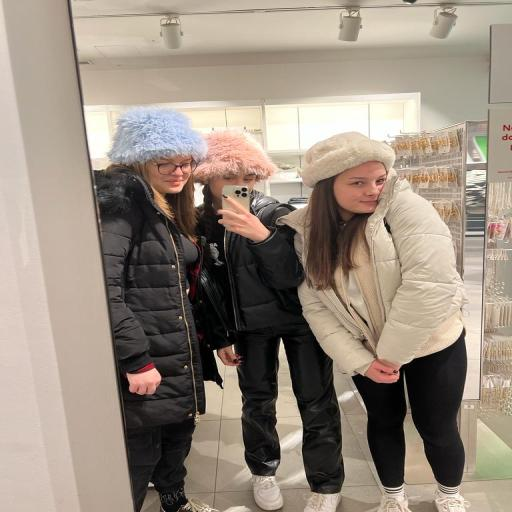marija: (328, 159, 395, 217)
masa: (208, 164, 264, 211)
